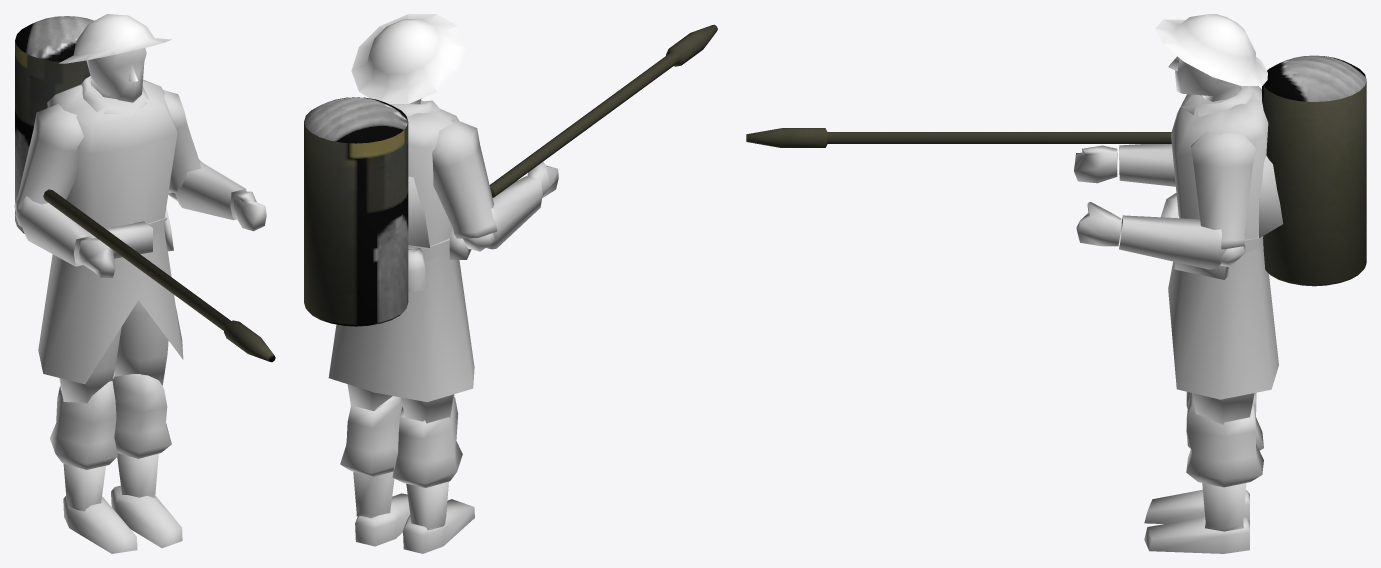
The model's file is britinfft.dae.
The picture shows the model from 3 angles, left to right: view 1: azimuth 30°, elevation 25°; view 2: azimuth 150°, elevation 25°; view 3: azimuth 270°, elevation 25°; orthographic projection.
Visible parts, largest first — view 1: torso, fttank, rloleg, lloleg, head, ruparm, gun, lupleg, rloarm, lfoot, lloarm, rfoot (+4 smaller); view 2: fttank, torso, head, rloleg, ruparm, lloleg, gun, rloarm, rfoot, lfoot, rupleg, lupleg (+1 smaller); view 3: torso, fttank, head, lloleg, luparm, gun, lloarm, lfoot, rloarm, rfoot, lhand, rhand (+1 smaller).
Part boxes in pixels (x1,y1,x2,y2): torso: (38,76,183,384); fttank: (15,16,93,233); rloleg: (50,381,117,511); lloleg: (112,373,171,497); head: (59,14,171,102); ruparm: (14,104,83,215); gun: (43,189,275,362); lupleg: (114,300,168,385); rloarm: (18,196,91,266); lfoot: (111,485,182,548); lloarm: (175,159,246,220); rfoot: (63,496,137,553); fttank: (304,97,408,326); torso: (328,100,474,402); head: (351,14,465,104); rloleg: (392,397,462,530); ruparm: (432,119,497,238); lloleg: (340,396,402,518); gun: (489,24,717,197); rloarm: (486,176,542,249); rfoot: (403,499,474,553); lfoot: (355,493,410,546); rupleg: (401,394,454,423); lupleg: (347,384,392,410); torso: (1161,86,1283,399); fttank: (1262,55,1366,286); head: (1155,14,1267,101); lloleg: (1186,392,1263,531); luparm: (1191,131,1255,249); gun: (746,128,1171,147); lloarm: (1119,215,1226,269); lfoot: (1144,517,1249,553); rloarm: (1119,144,1175,186); rfoot: (1144,489,1249,523); lhand: (1076,202,1121,246); rhand: (1074,145,1117,183).
Bounding box in the file's own units: 8.66 × 24.39 × 22.39.
